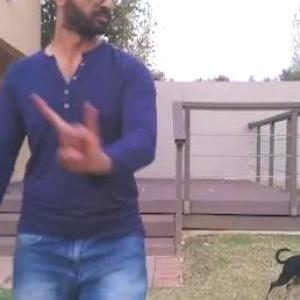takeoff-hand: (26, 80, 118, 173)
